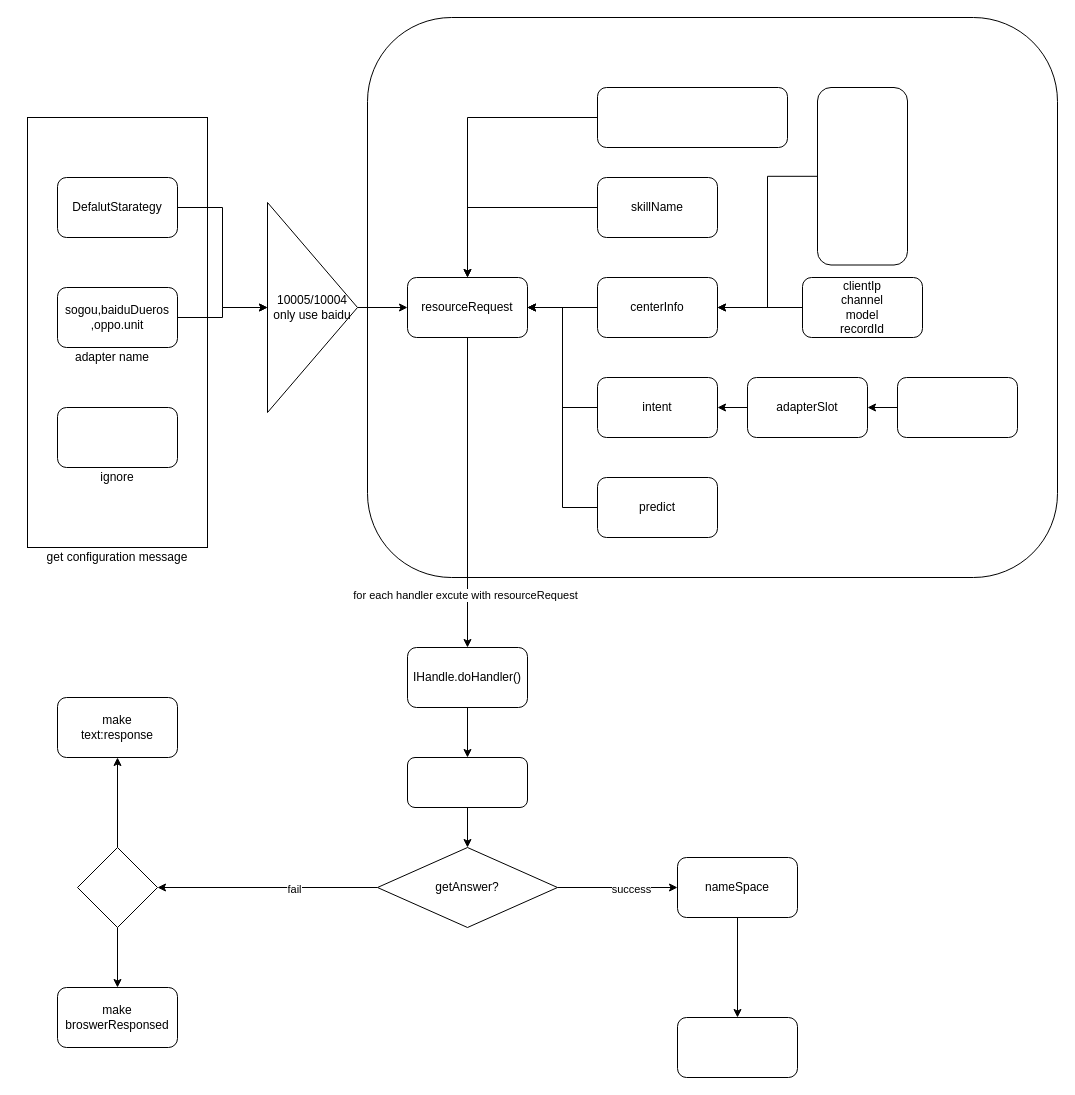
Some shapes in this 1075 by 1095 pixel diagram are drawn without their labels. The shapes that lost their labels are listed below. From the top down, each one's centre as x and y in pixels, then its label:
point 692,117: 取query,先取type0,再取type1
point 862,175: imei ouid duid auid guid apid sessionid
point 957,407: dmInfoSlot
point 117,437: oppo
point 467,782: buildApiResponse
point 117,887: isWatch/Tv
point 737,1047: payload
